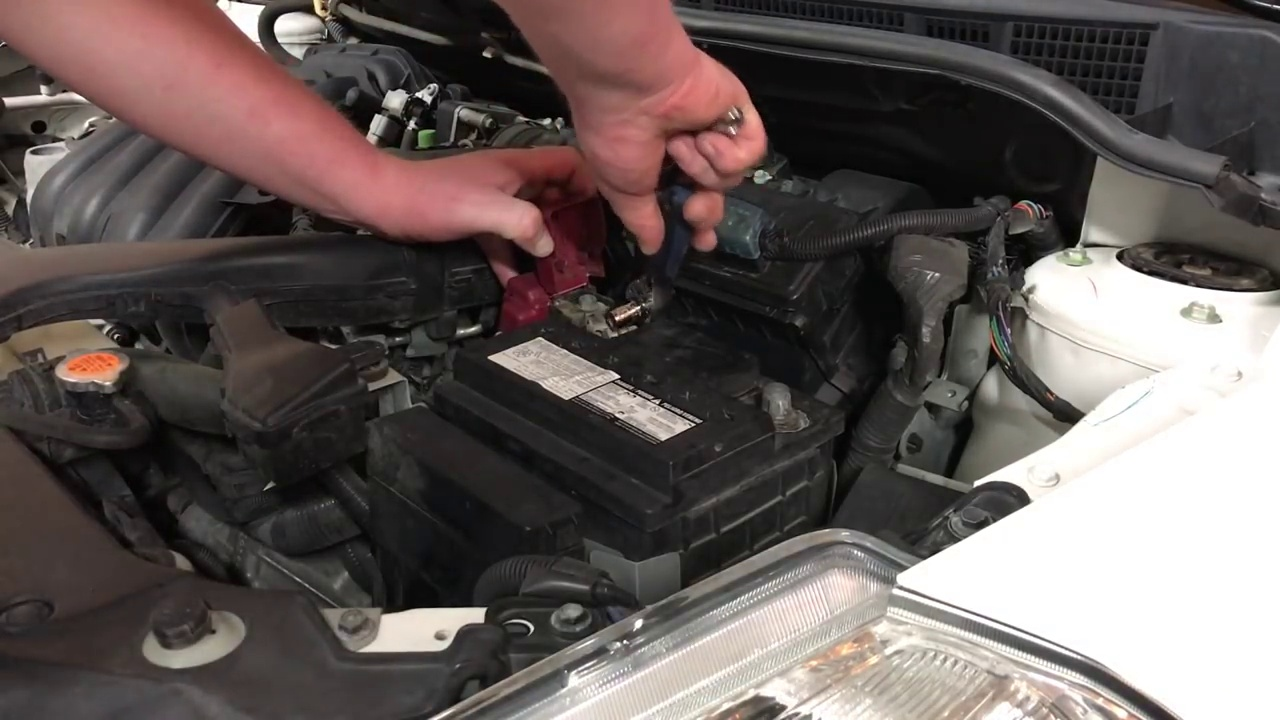battery: (450, 312, 816, 465)
neg_disconnected: (731, 362, 823, 436)
pos_touched: (448, 126, 696, 341)
